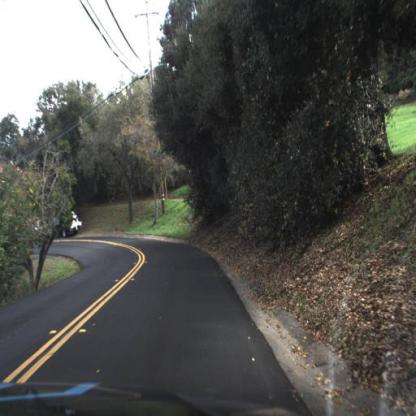car: (53, 202, 84, 239)
